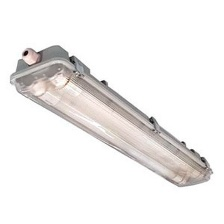light_bulb: (49, 70, 207, 181), (26, 82, 188, 186)
